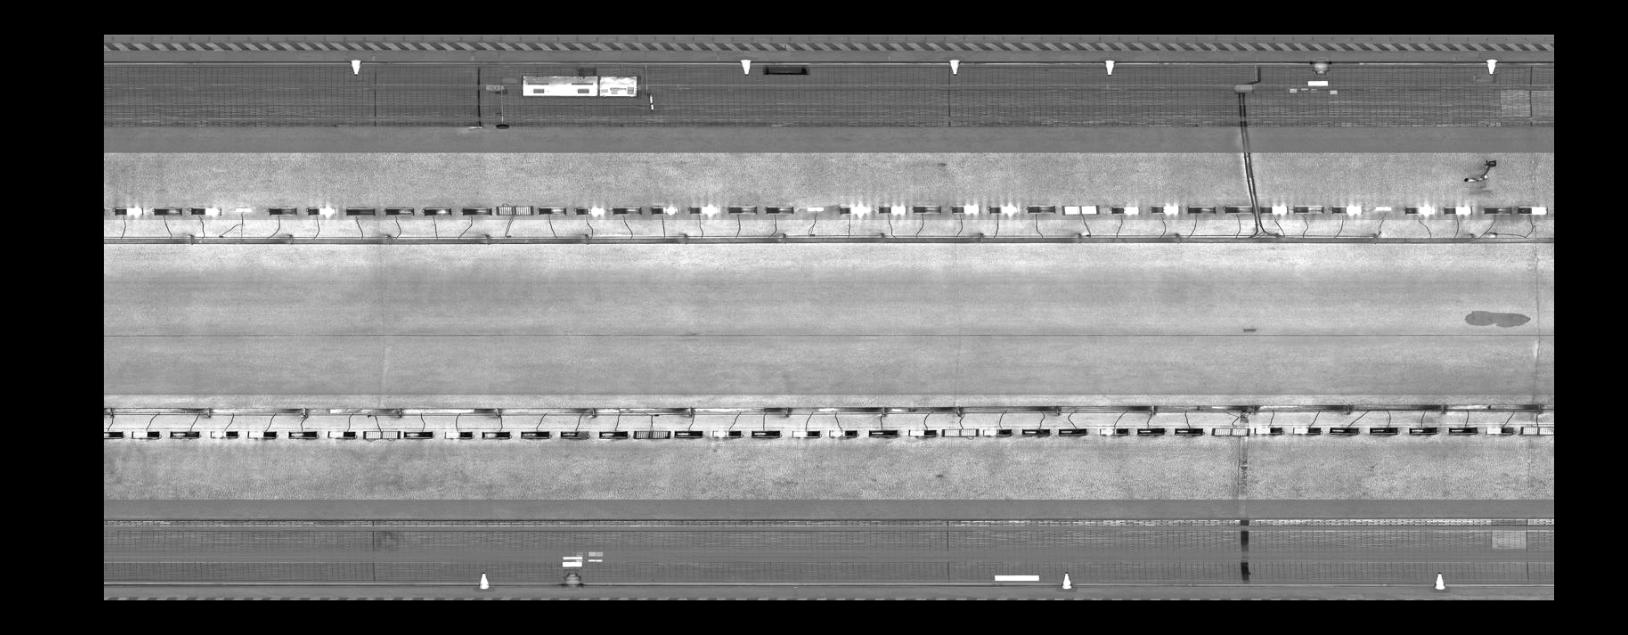light: (1208, 423, 1253, 439), (1058, 201, 1101, 218), (494, 202, 535, 218), (836, 200, 871, 218), (1109, 201, 1145, 218), (1517, 422, 1553, 439), (361, 426, 403, 441), (630, 426, 674, 440), (1147, 201, 1183, 218), (939, 425, 981, 439), (984, 200, 1019, 217), (458, 203, 495, 218), (323, 426, 360, 441), (186, 203, 225, 217), (1402, 203, 1438, 218), (419, 203, 456, 218), (380, 203, 416, 218), (342, 203, 378, 218), (112, 203, 145, 219), (1255, 200, 1291, 215), (304, 203, 340, 218), (266, 203, 301, 218), (903, 424, 939, 439), (557, 427, 592, 442), (1132, 424, 1169, 438), (1053, 424, 1090, 438), (910, 201, 944, 216), (875, 202, 910, 217), (573, 203, 607, 218), (518, 426, 552, 441), (442, 426, 477, 441), (1170, 424, 1206, 438), (865, 425, 901, 439), (244, 426, 280, 440), (166, 427, 202, 441), (126, 427, 162, 441), (1024, 201, 1057, 216), (1481, 423, 1519, 436), (708, 426, 747, 439), (1326, 423, 1361, 437), (1095, 424, 1131, 438), (825, 425, 861, 439), (401, 427, 436, 441), (1327, 202, 1364, 215), (535, 203, 569, 217), (150, 204, 184, 218), (1288, 423, 1323, 437), (1514, 203, 1550, 216), (1291, 201, 1327, 214), (1365, 423, 1402, 436), (686, 203, 720, 217), (286, 427, 319, 441), (1481, 203, 1516, 216), (1440, 203, 1475, 216), (1445, 423, 1481, 436), (593, 427, 631, 439), (949, 202, 981, 216), (480, 427, 512, 441), (725, 203, 759, 216), (1406, 423, 1440, 436), (1017, 425, 1052, 438), (980, 425, 1014, 438), (207, 427, 241, 440), (788, 427, 824, 439), (747, 427, 783, 439), (763, 203, 796, 216), (609, 203, 643, 216), (1252, 423, 1285, 436), (1220, 203, 1255, 215), (1184, 203, 1219, 215), (671, 427, 706, 439), (649, 203, 681, 216), (103, 426, 125, 439), (230, 204, 255, 214), (804, 204, 826, 212), (1372, 203, 1396, 210)
